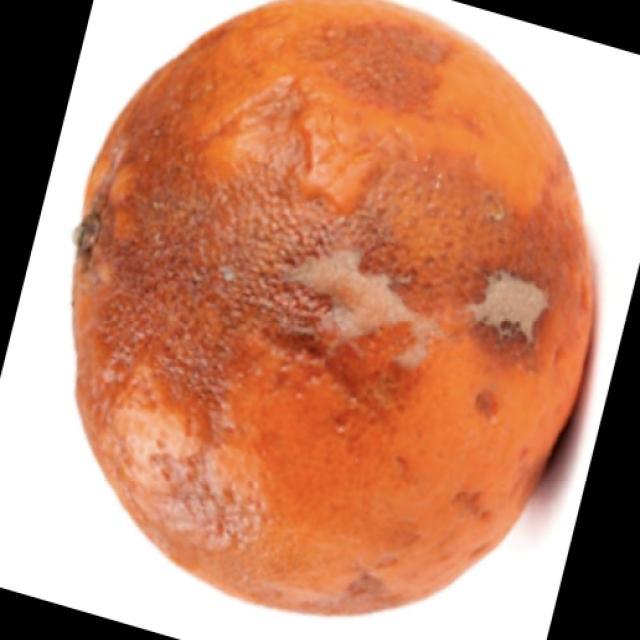sangat-busuk: (73, 0, 592, 611)
